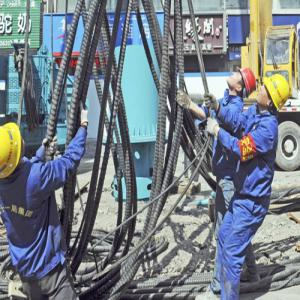red: (227, 67, 257, 102)
yellow: (254, 71, 292, 116), (2, 122, 28, 183)
